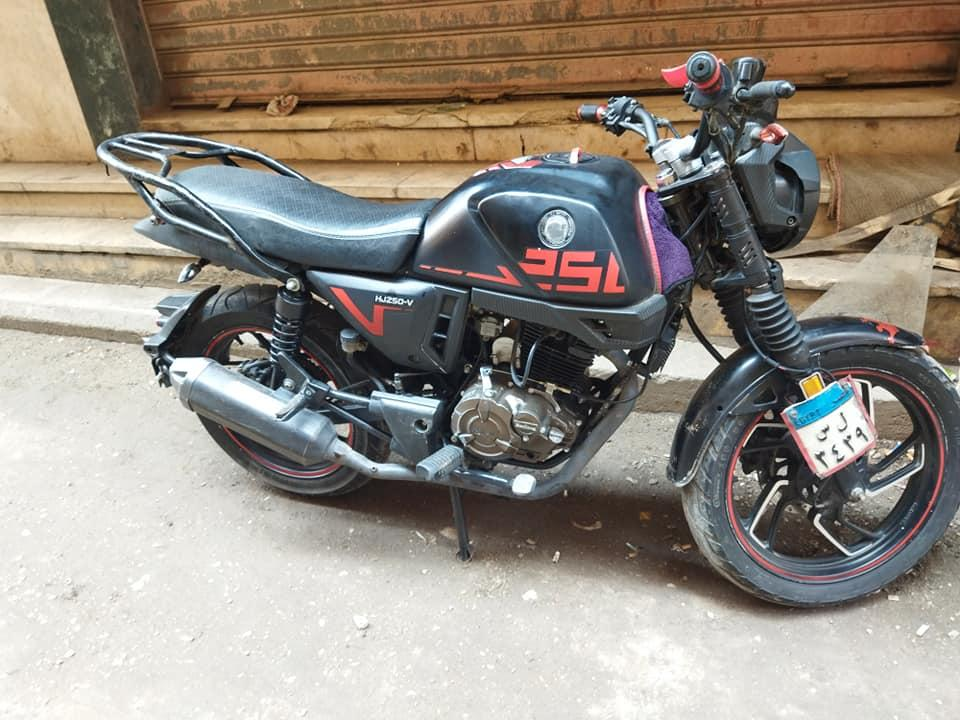License Plate: (785, 381, 879, 476)
